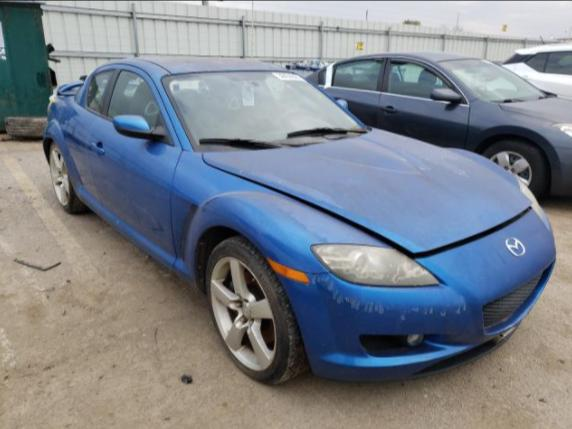Broken part: (217, 169, 535, 262)
Flaking: (309, 272, 466, 319), (389, 133, 471, 175), (245, 170, 339, 205)
Missing part: (370, 335, 391, 353)
